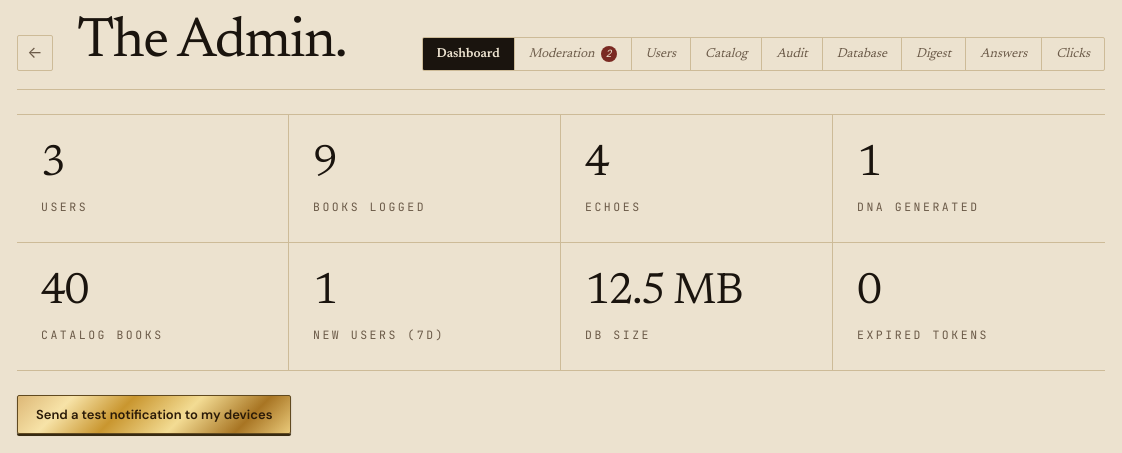
Scenario: AdminPage — moderation queue › never prints a private thread's transcript, only who and how many
Check: the text "Users" is shown, box [41,199,88,214]
What coordinates should you click on to do the following:
click the button "moderation 2"
I would click on:
 (573, 54)
Its box is [515,38,632,70].
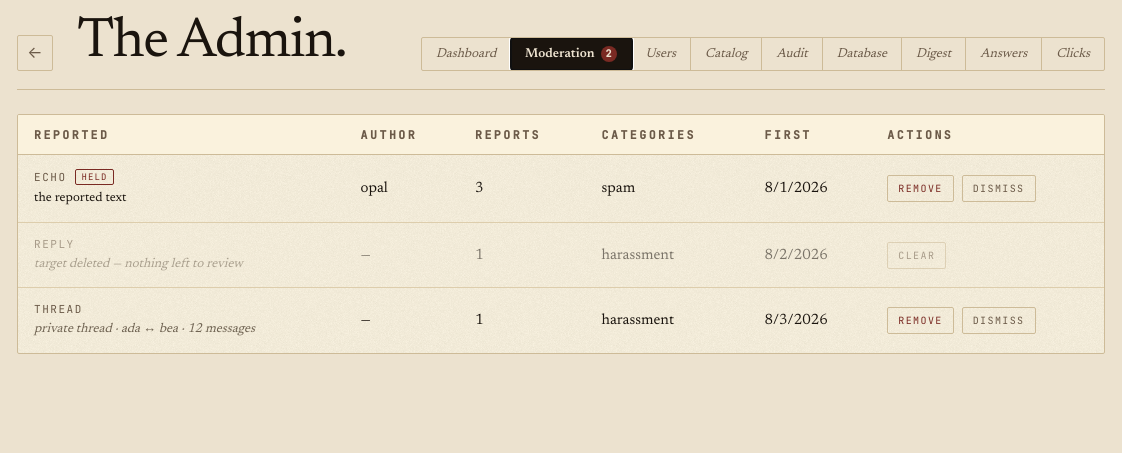
Check: the text "the reported text" is shown, box [34,191,127,204]
Check: the text "private thread · ada ↔ bea · 12 messages" is shown, box [34,322,255,335]
